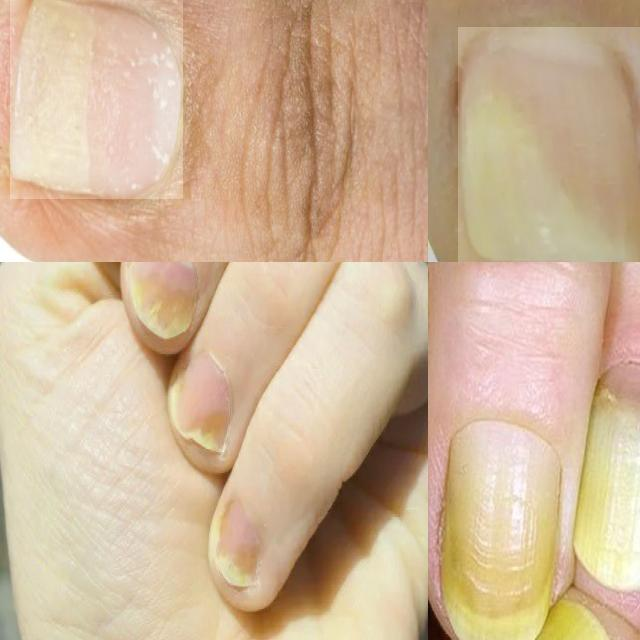diabetes: (458, 28, 640, 262), (10, 0, 183, 199), (438, 419, 560, 640), (574, 369, 640, 591), (172, 357, 231, 452), (128, 262, 197, 340), (210, 501, 263, 586)
